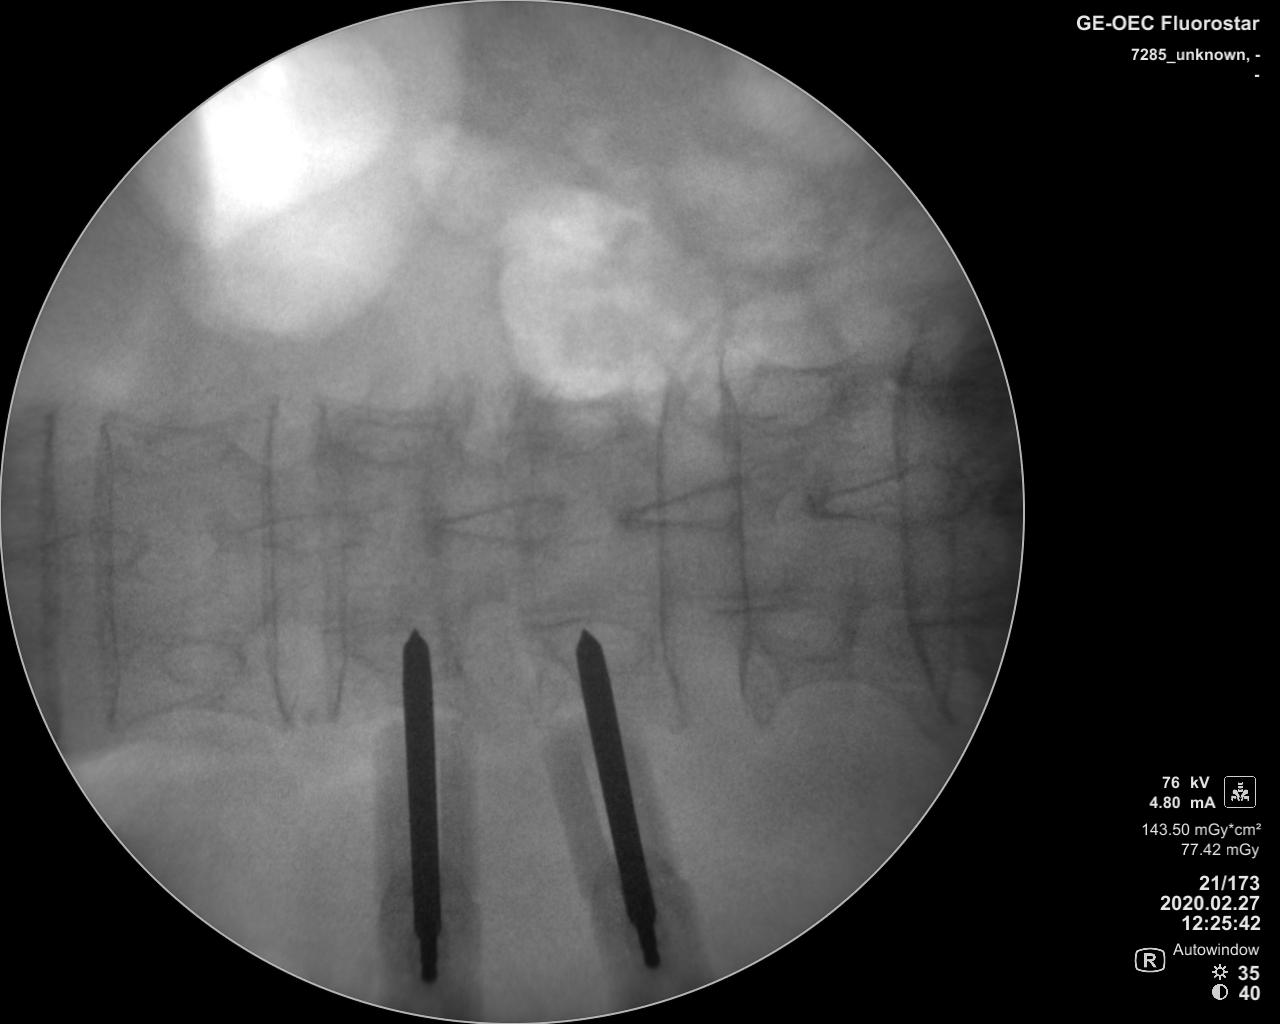eyes: (530, 611, 653, 679), (344, 618, 460, 682), (743, 364, 848, 428), (339, 402, 445, 466), (747, 602, 854, 660), (153, 634, 247, 690), (550, 398, 630, 456)
line: (892, 353, 945, 717), (306, 385, 354, 735), (257, 391, 301, 747), (712, 378, 752, 715), (87, 408, 126, 744), (652, 378, 689, 727), (34, 399, 70, 743)
nose: (805, 459, 983, 529), (616, 474, 769, 536), (426, 494, 572, 549), (229, 508, 368, 556), (24, 523, 146, 577)
